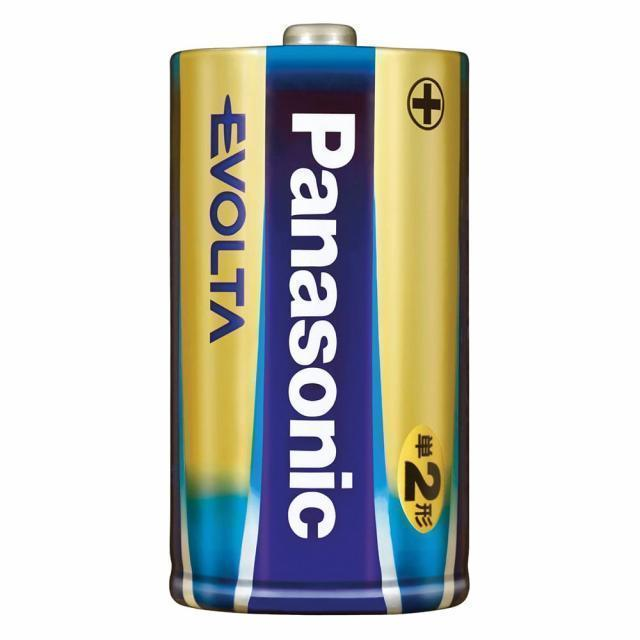Hazard: (162, 21, 474, 619)
